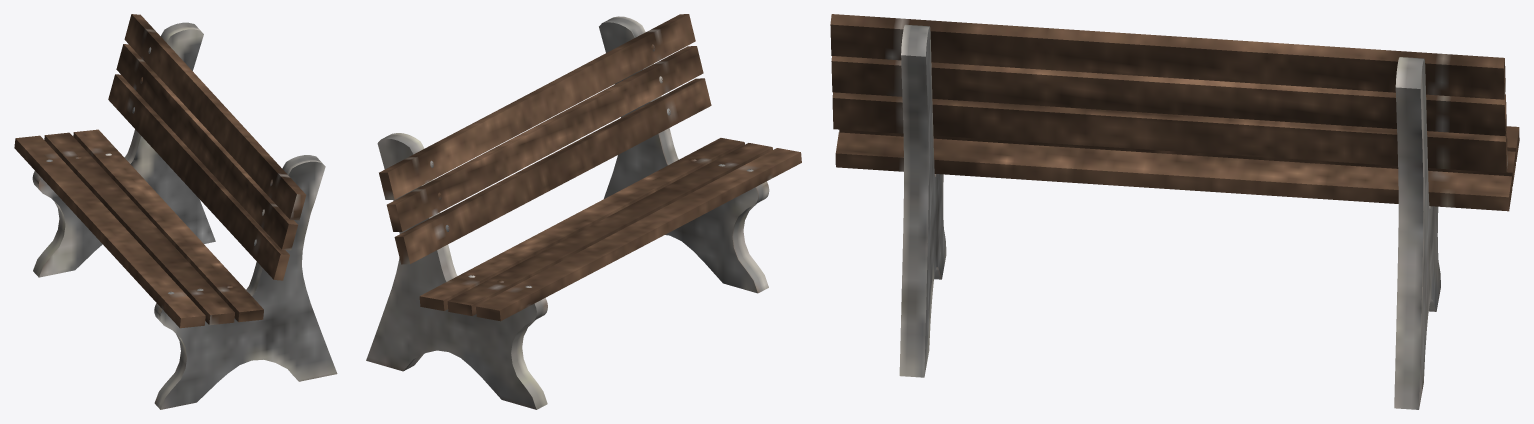
Rendered from tj_bench_concrete.fbx.
The picture shows the model from 3 angles, left to right: view 1: azimuth 30°, elevation 25°; view 2: azimuth 150°, elevation 25°; view 3: azimuth 270°, elevation 25°; orthographic projection. The views are drawn at different scales.
Visible parts, largest first — view 1: tj_bench_concrete_LOD0; view 2: tj_bench_concrete_LOD0; view 3: tj_bench_concrete_LOD0.
Boxes of the visible parts, x1,y1,x2,y2 form: tj_bench_concrete_LOD0: (14, 14, 337, 409); tj_bench_concrete_LOD0: (366, 14, 801, 409); tj_bench_concrete_LOD0: (830, 14, 1519, 409).
Size of what is drawn, in the model's own units: 1.15 by 1.08 by 2.07.
Materials: 1 (1 with a texture image).
